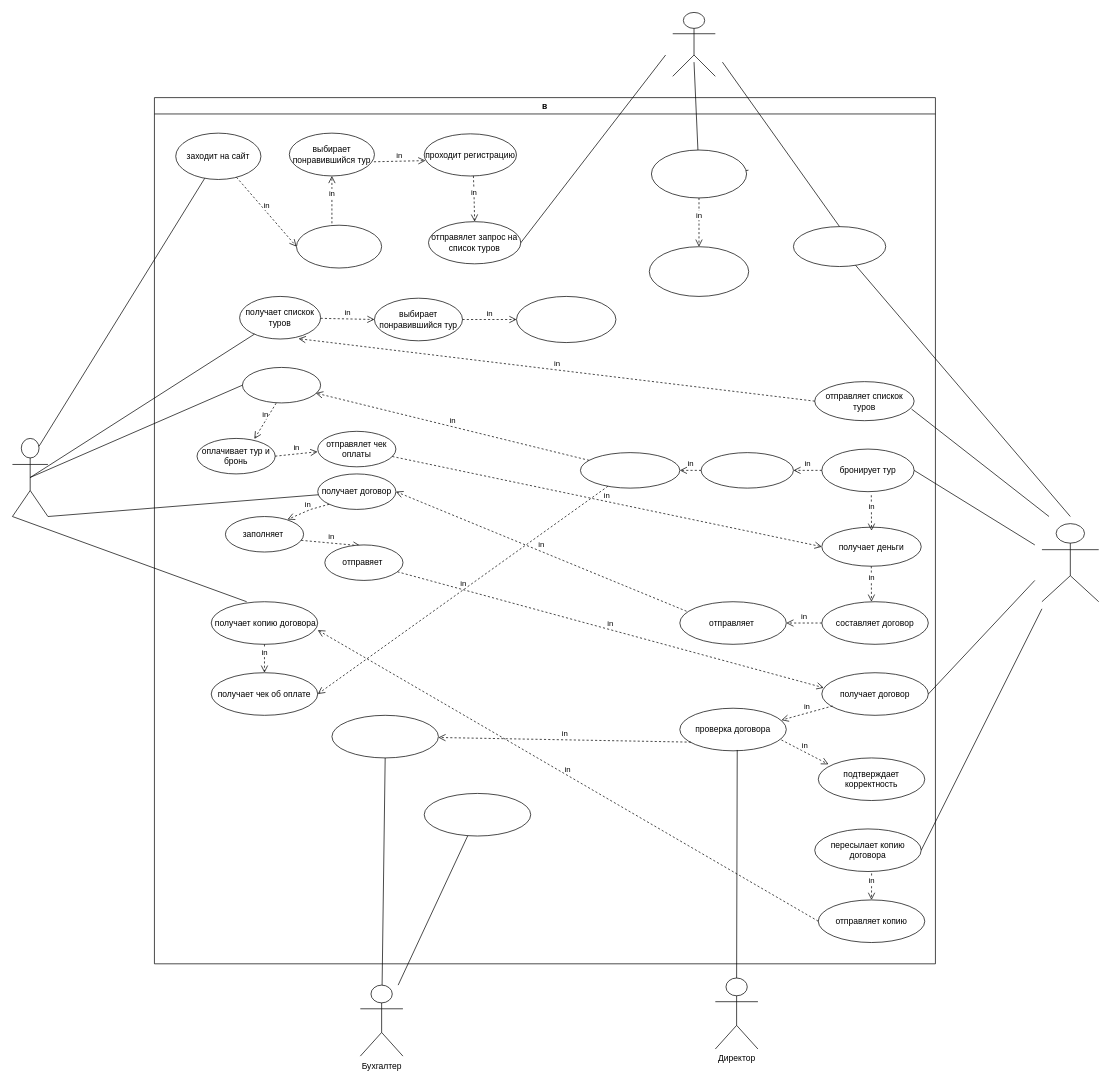
This 1111x1083 diagram has some shape labels left out. The shapes that lost their labels are listed below. From the top down, each one's centre as x and y in pixels, then its label:
At point (693, 44): "Менеджер".
At point (699, 173): "связывается с турагентом".
At point (339, 246): "рассматривает каталог".
At point (839, 246): "запрашивает список туров".
At point (699, 271): "отправляет запрос на бронь тура".
At point (566, 319): "отправялет запрос на бронь менеджеру".
At point (281, 385): "получает счет на оплату".
At point (30, 477): "клиент".
At point (630, 470): "отправялет чек об оплате тура".
At point (746, 470): "отправляет счет на оплату".
At point (1070, 562): "Турагент".
At point (384, 736): "вести бухгалтерский учет".
At point (477, 814): "доходы агенства".
